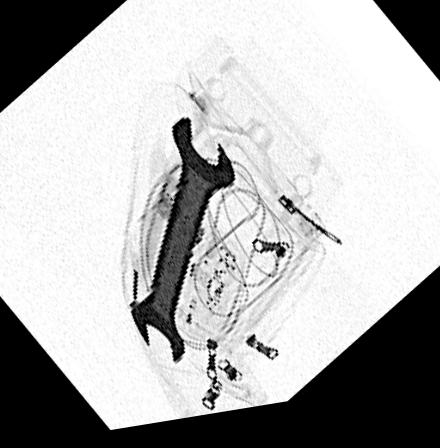Wrench: (130, 118, 236, 373)
